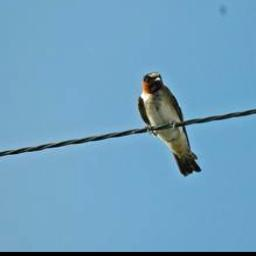Swallow: (138, 69, 205, 176)
